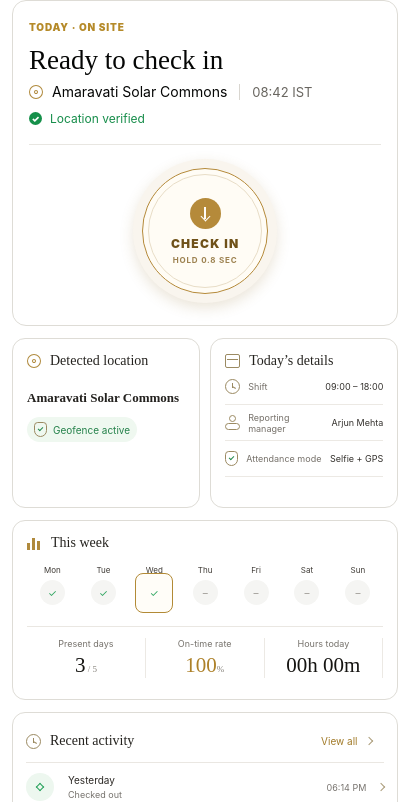
Test: Employee attendance screenshot surface › provides feedback for View all and publishes narrow viewport contracts
Click the button with aria-label "View all recent activity": (346, 741) [308,719,384,763]
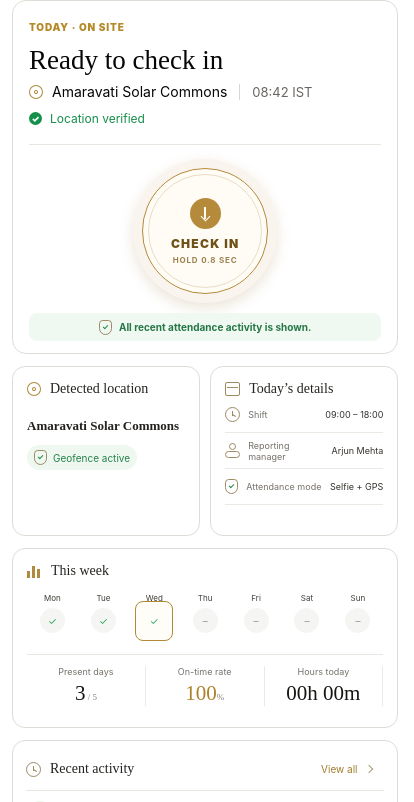
Check: the text "All recent attendance activity is shown." is shown, box [119,320,311,334]
